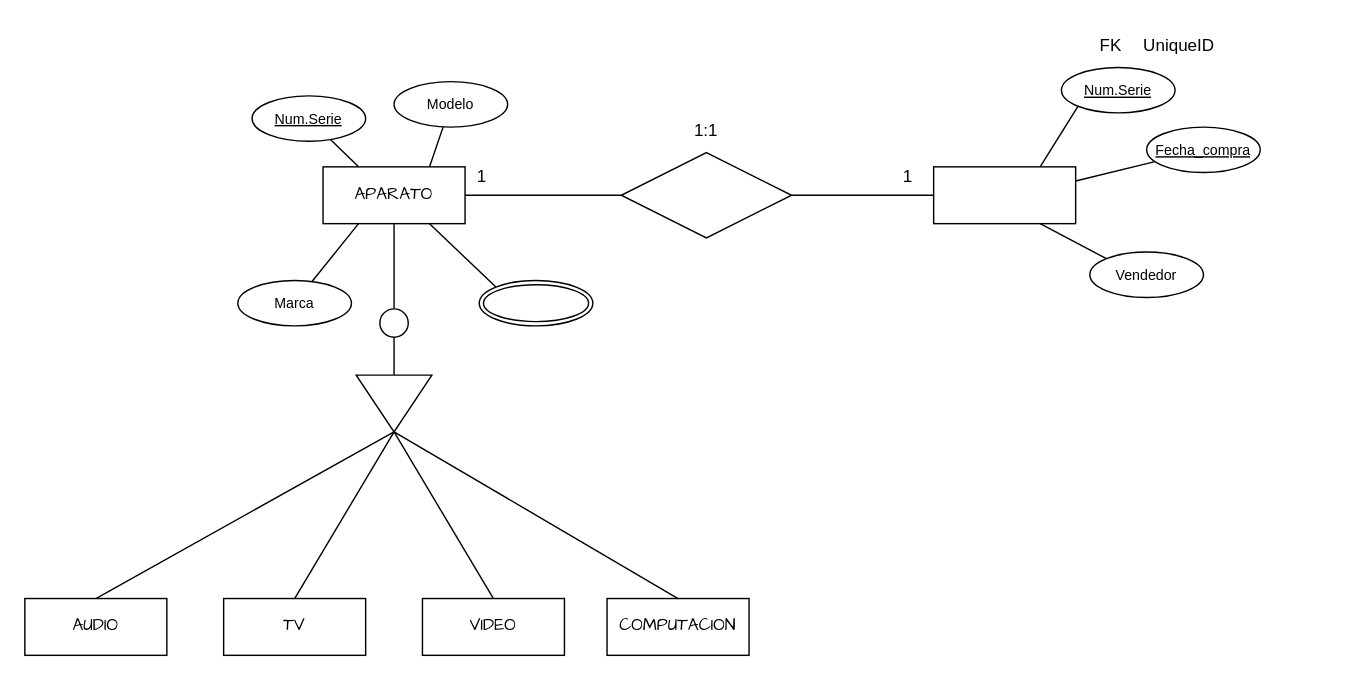
Some shapes in this 1370 by 680 pixel diagram are drawn without their labels. Here are the shapes that lost their labels. From the top down, the centre of each, then its label:
At (x=706, y=194): "Tiene".
At (x=1004, y=194): "GARANTIA".
At (x=535, y=302): "Tipo".
